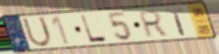1: (49, 14, 71, 47)
5: (105, 10, 135, 42)
L: (79, 13, 110, 43)
R: (138, 9, 169, 39)
T: (164, 8, 188, 37)
U: (20, 16, 54, 49)
